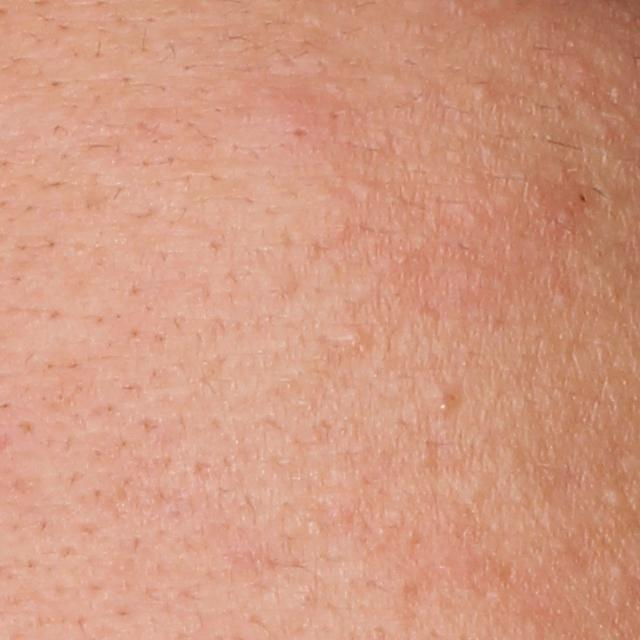comedo: (469, 81, 495, 109), (285, 121, 310, 145), (603, 488, 629, 510), (605, 561, 627, 582), (355, 179, 376, 201)
